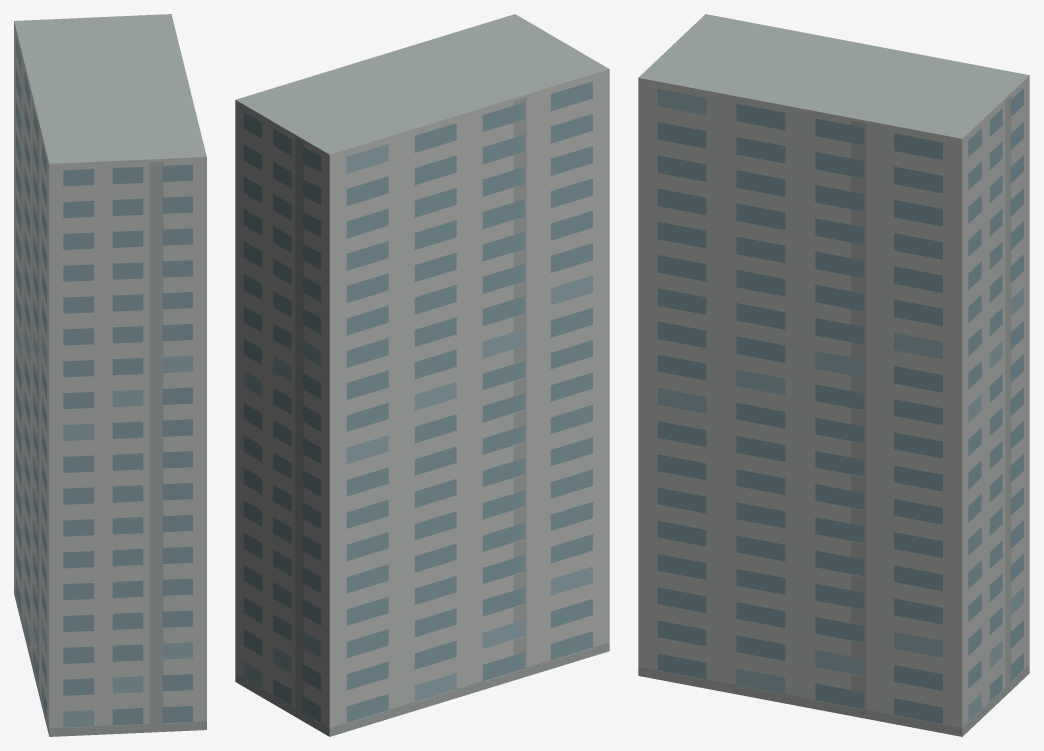
File: residential-cdb53fd8-ecb9-42c0-9870-b80ac9e3bc8a.glb
3 views of the same model, side by side, from view 1: azimuth 30°, elevation 25°; view 2: azimuth 150°, elevation 25°; view 3: azimuth 270°, elevation 25° (orthographic). The views are drawn at different scales.
Parts seen in each view (by area): view 1: residential-cdb53fd8-ecb9-42c0-9870-b80ac9e3bc8a.tmp; view 2: residential-cdb53fd8-ecb9-42c0-9870-b80ac9e3bc8a.tmp; view 3: residential-cdb53fd8-ecb9-42c0-9870-b80ac9e3bc8a.tmp.
Boxes of the visible parts, x1,y1,x2,y2 form: residential-cdb53fd8-ecb9-42c0-9870-b80ac9e3bc8a.tmp: [14, 14, 206, 736]; residential-cdb53fd8-ecb9-42c0-9870-b80ac9e3bc8a.tmp: [235, 14, 609, 736]; residential-cdb53fd8-ecb9-42c0-9870-b80ac9e3bc8a.tmp: [638, 14, 1029, 736].
Size of the model in its own units: 21.5 by 48 by 28.49.
